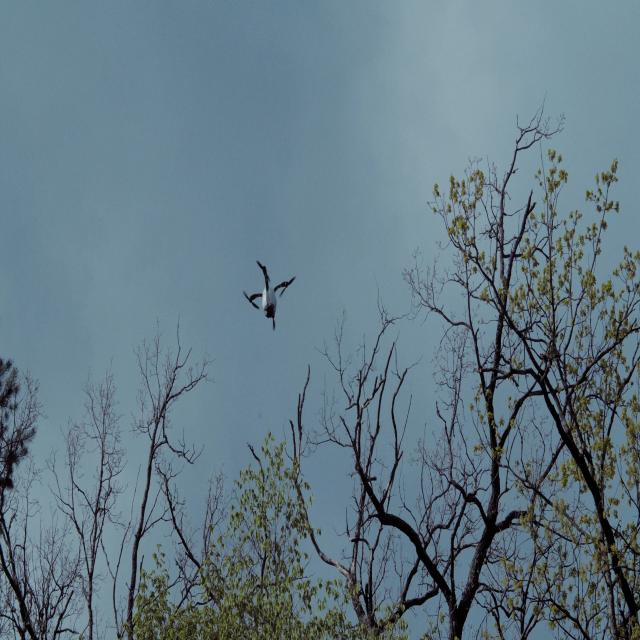Drone: (244, 258, 298, 338)
